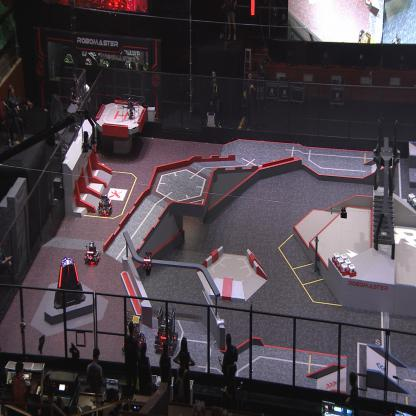car: (154, 306, 178, 355), (121, 312, 146, 356), (97, 192, 115, 217), (84, 238, 101, 264)
